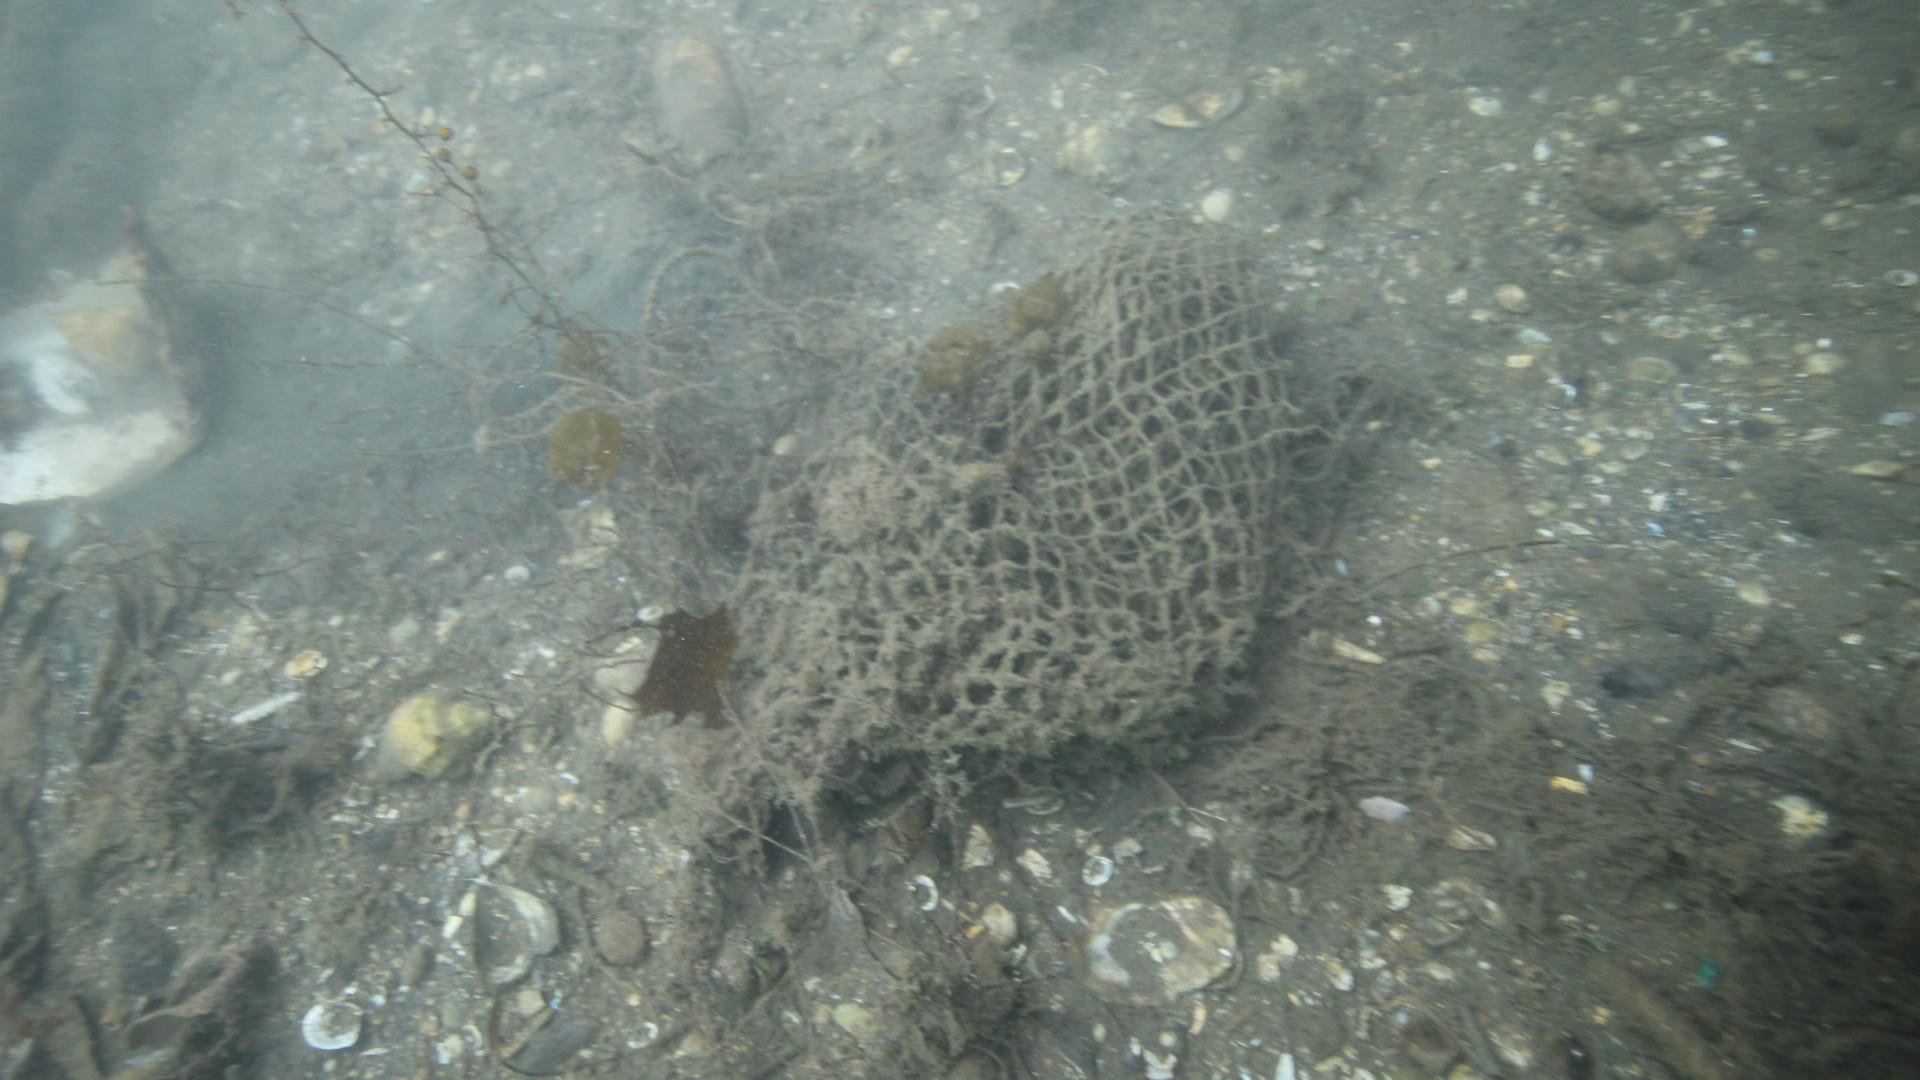fish net: (758, 202, 1290, 760)
